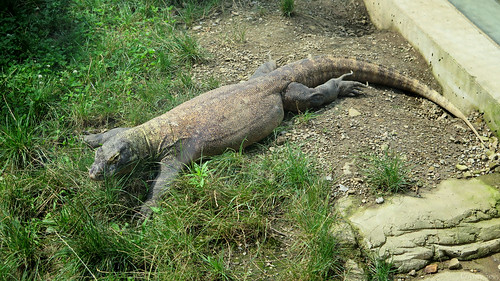animal: (82, 49, 462, 214)
